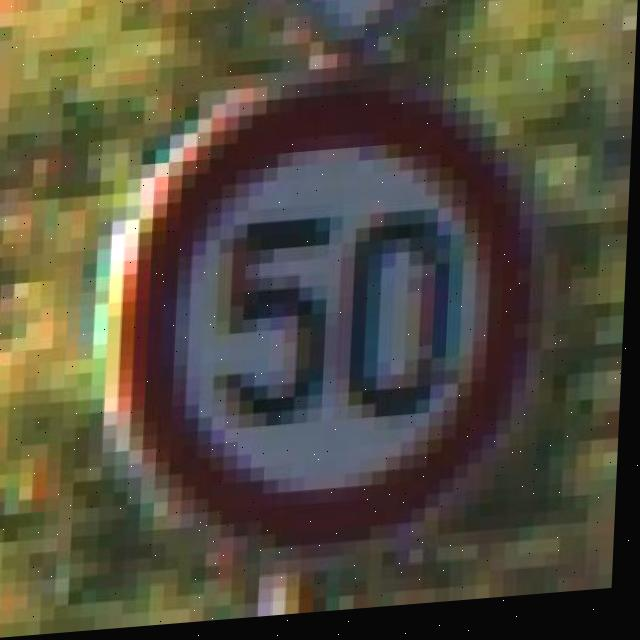Speed limit 50: (126, 77, 536, 561)
